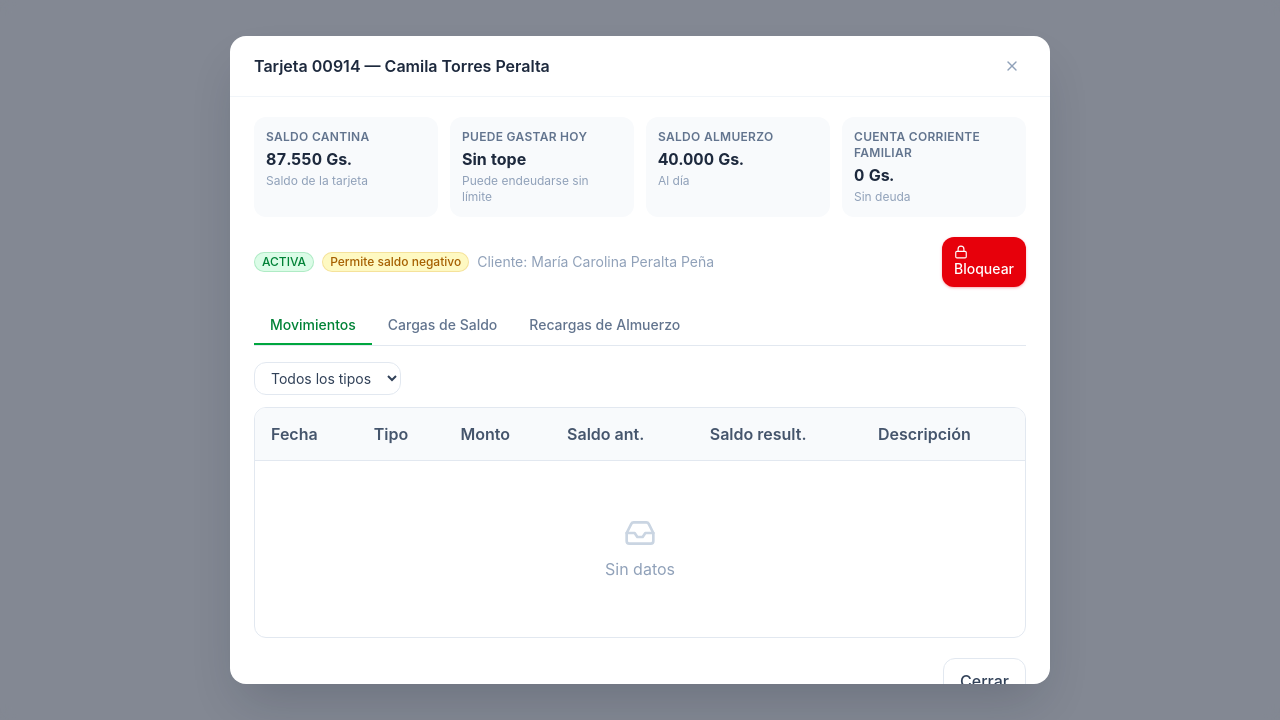
Scenario: ModalDetalle › carga y muestra las recargas de almuerzo del alumno en su propia pestaña
Click the button "Recargas de Almuerzo": (605,326) left=513, top=307, right=696, bottom=345
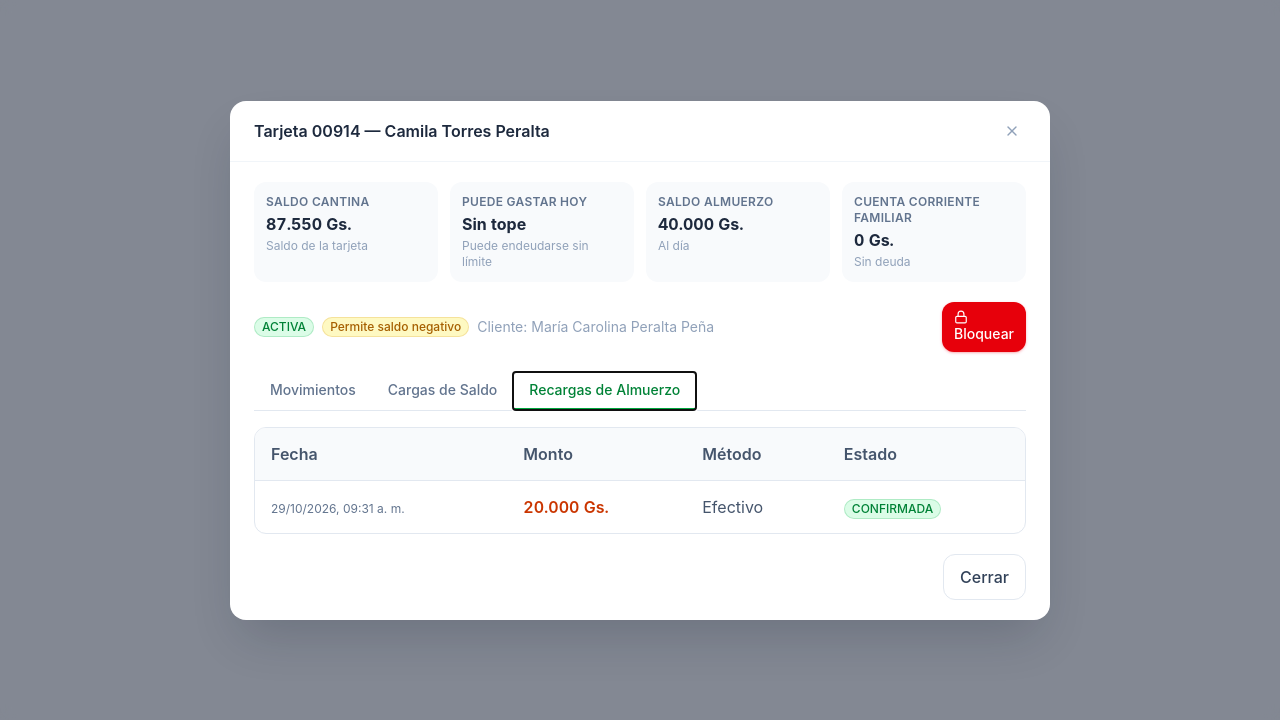
Expected: the text "20.000 Gs." is shown, left=523, top=496, right=609, bottom=516
